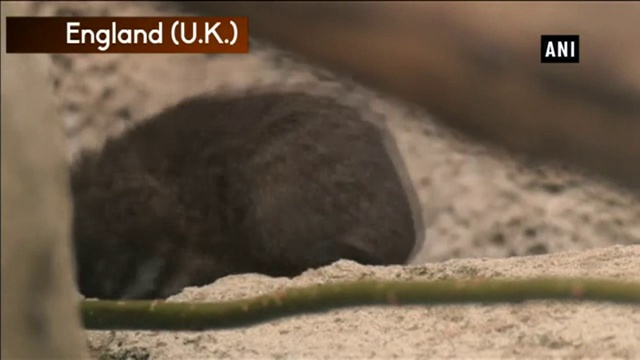Rock Hyrex: (68, 90, 417, 301)
